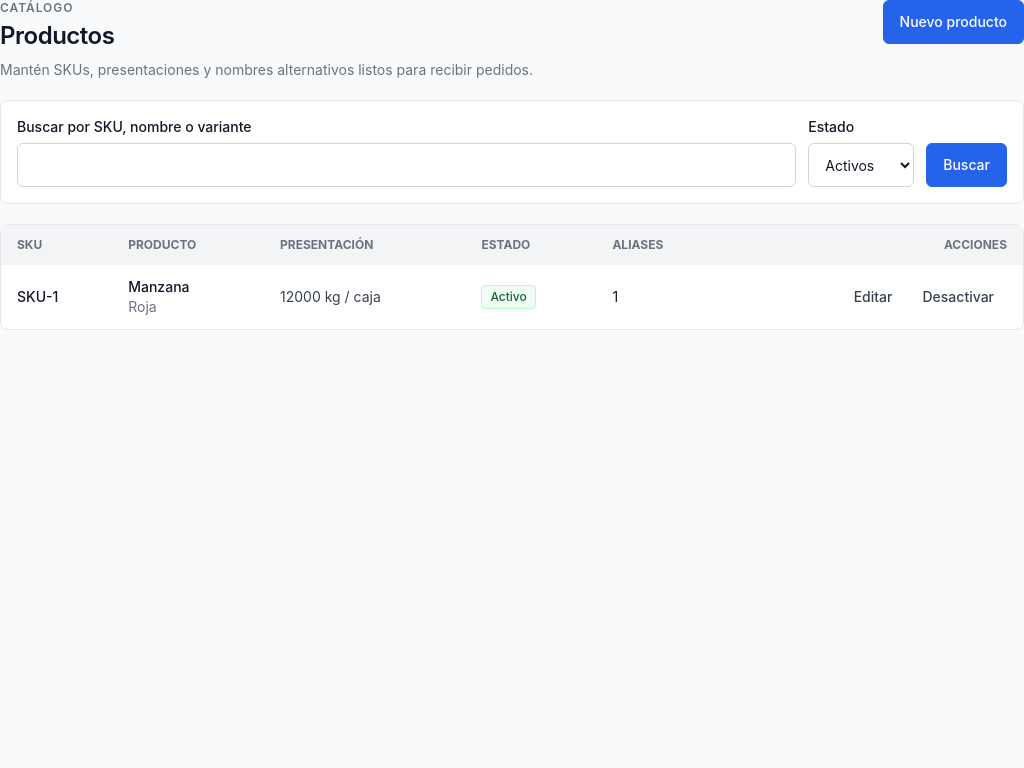
product catalog page › requires confirmation before deactivation
The width and height of the screenshot is (1024, 768).
Click the button "Desactivar" at coordinates (958, 297), box [910, 279, 1007, 315]
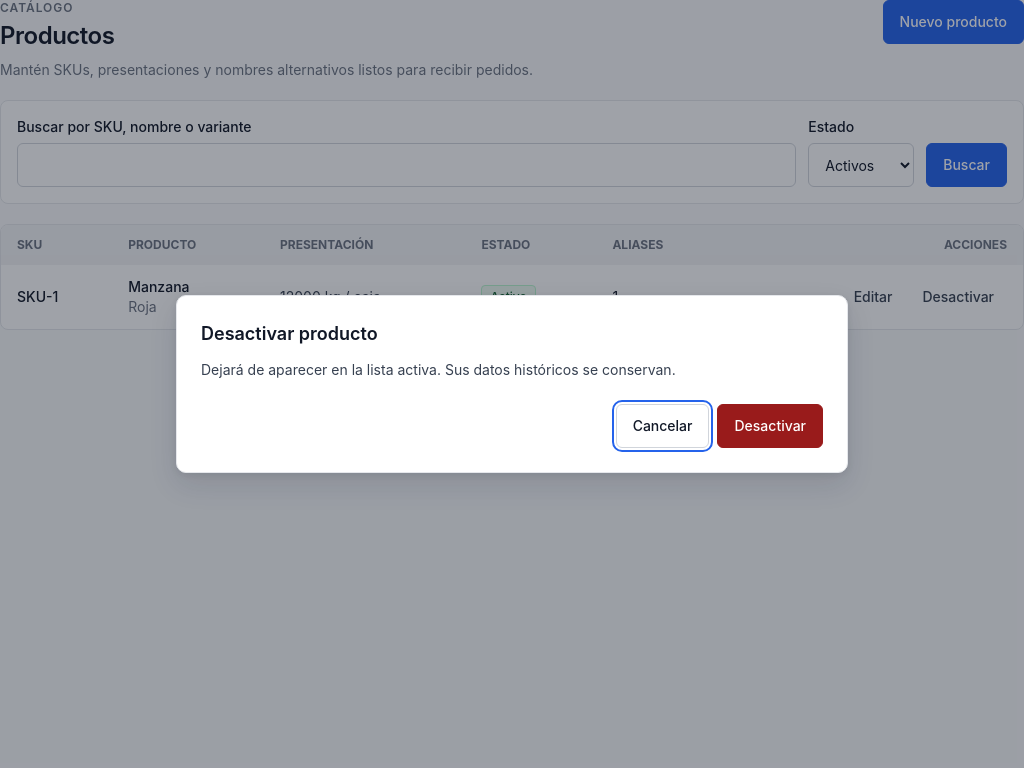
Click the button "Desactivar" at coordinates (770, 426), box [718, 404, 823, 448]
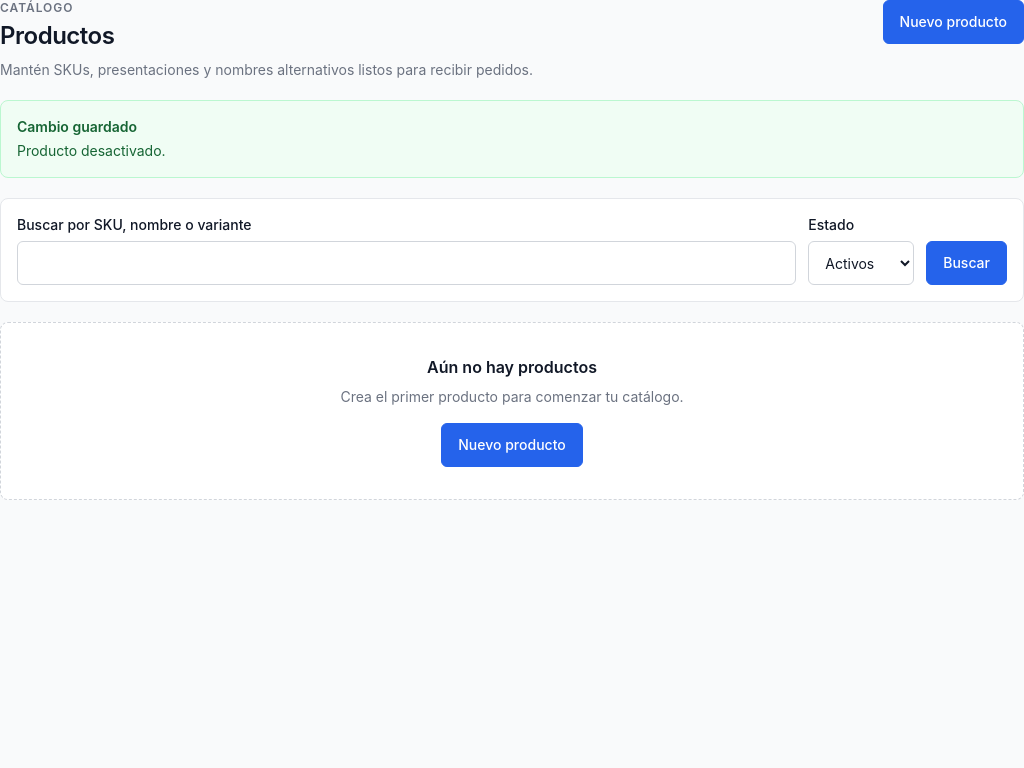
Check: the text "Producto desactivado." is shown, box [17, 142, 166, 159]
